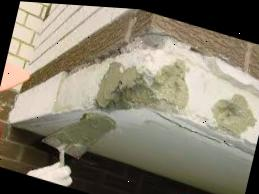spalling: (96, 60, 188, 111), (211, 94, 255, 135)
